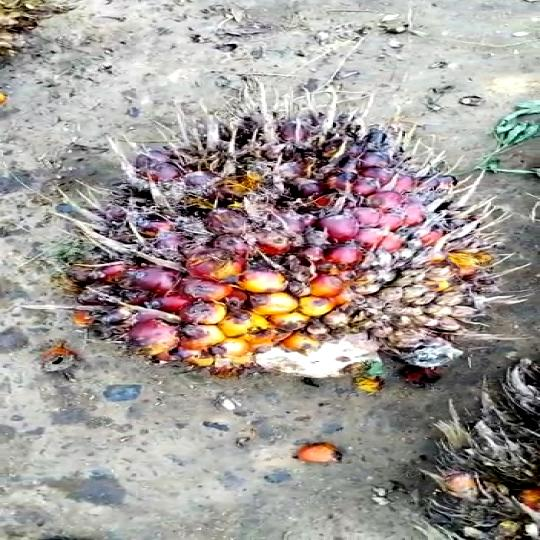masak: (72, 104, 496, 404)
